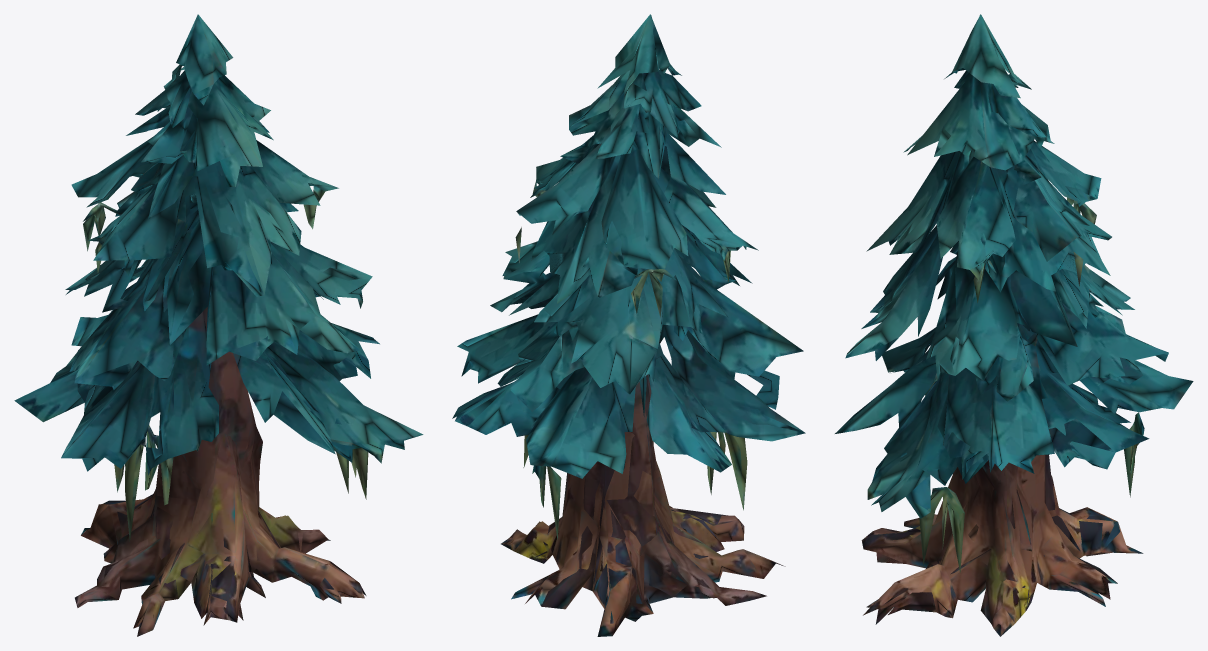
The model's file is tree_darkwood_pine.glb.
The picture shows the model from 3 angles, left to right: view 1: azimuth 30°, elevation 25°; view 2: azimuth 150°, elevation 25°; view 3: azimuth 270°, elevation 25°; orthographic projection. The views are drawn at different scales.
Parts seen in each view (by area): view 1: BakeLow; view 2: BakeLow; view 3: BakeLow.
Part boxes in pixels (box(x1,y1,x2,y2)): BakeLow: box(14, 14, 423, 636); BakeLow: box(452, 14, 805, 636); BakeLow: box(835, 14, 1193, 636).
Bounding box in the file's own units: 0.499 × 0.8157 × 0.4745.
1 material, 1 textured.
